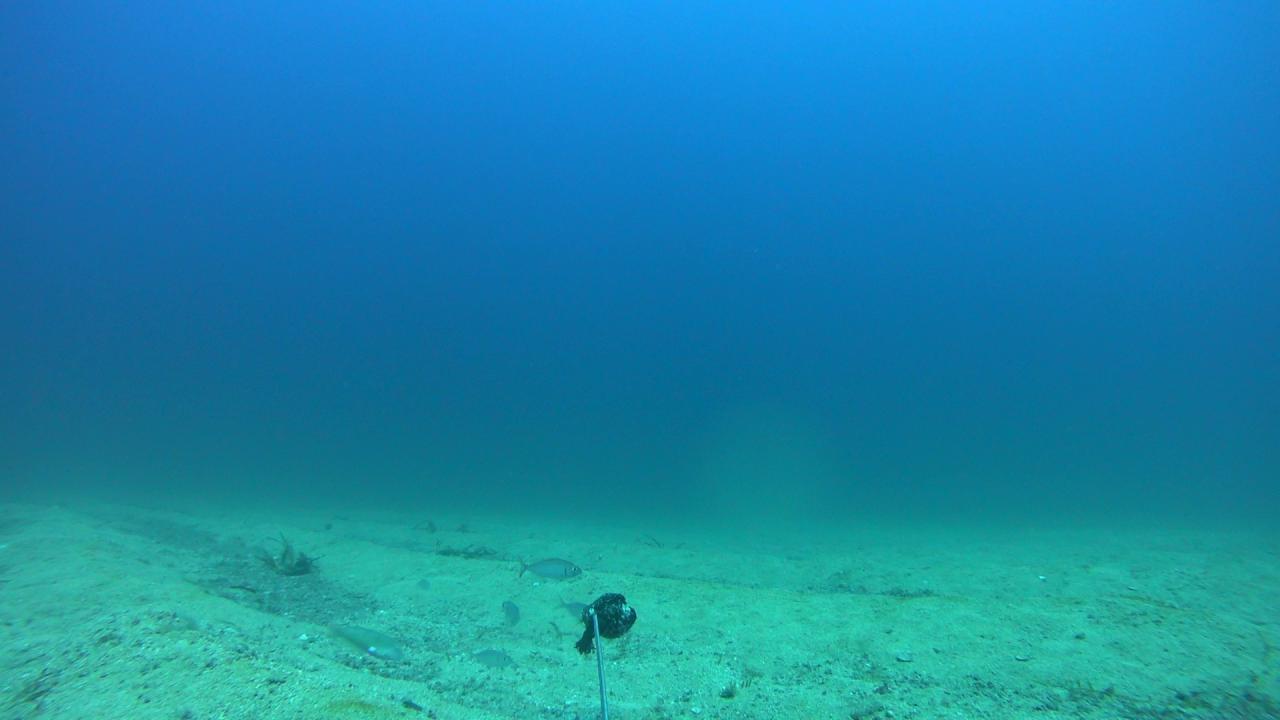pagellus: (517, 554, 580, 583), (462, 649, 514, 668)
